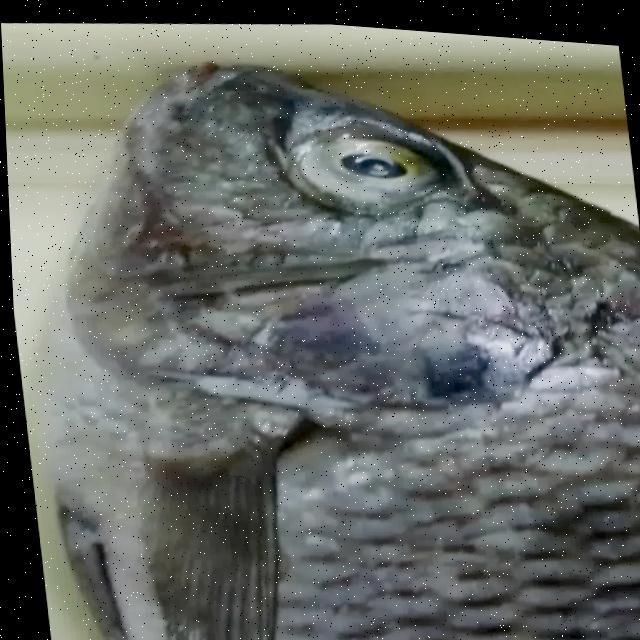Non-Fresh: (293, 101, 438, 211)
